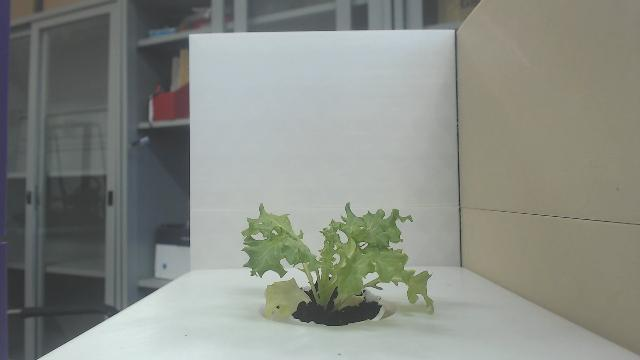Vegetative Stage: (239, 200, 439, 322)
